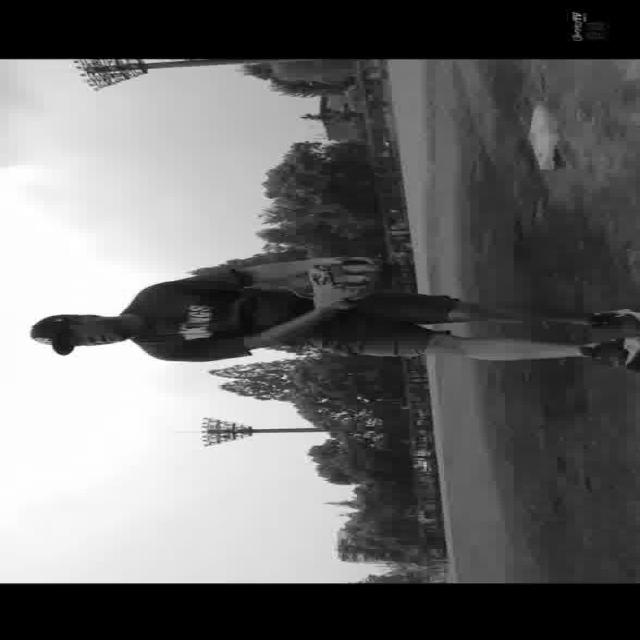base: (536, 104, 564, 170)
baseball_glove: (308, 256, 388, 310)
shoe: (584, 336, 638, 372), (593, 306, 640, 330)
